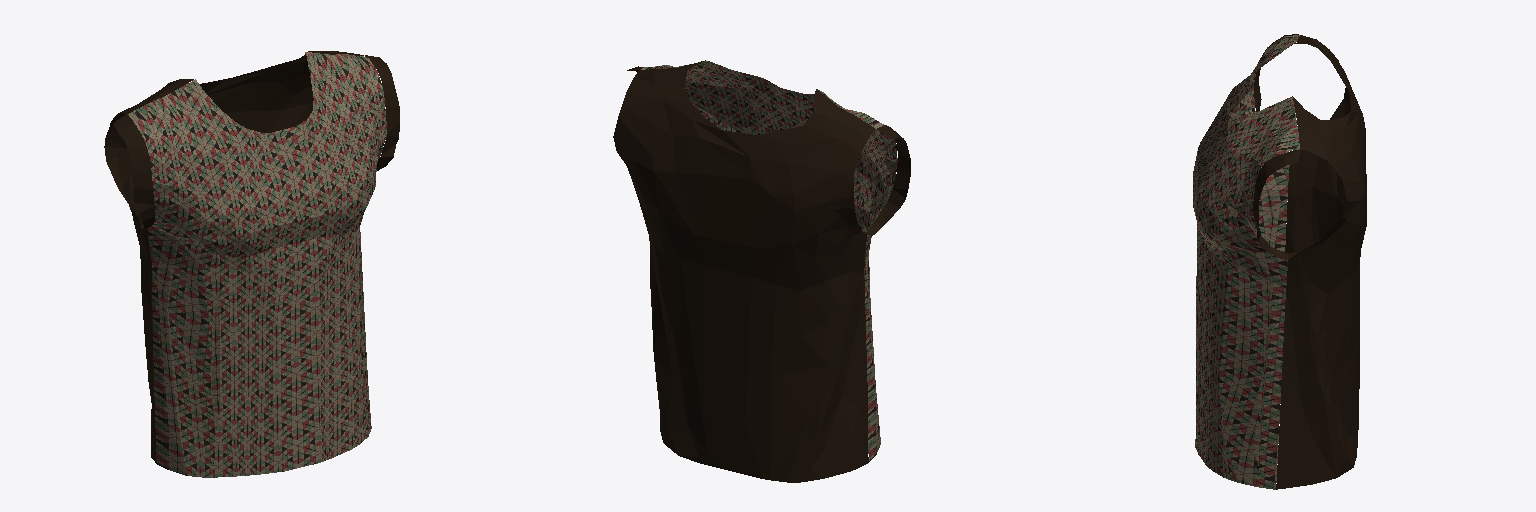
3 renders of one model, left to right at view 1: azimuth 30°, elevation 25°; view 2: azimuth 150°, elevation 25°; view 3: azimuth 270°, elevation 25°, orthographic.
Parts seen in each view (by area): view 1: T_shirt; view 2: T_shirt; view 3: T_shirt.
Part boxes in pixels (x1,y1,x2,y2): T_shirt: (104,51,399,477); T_shirt: (613,60,910,482); T_shirt: (1193,34,1366,489).
Size of the model in its own units: 0.2935 by 0.3892 by 0.1639.
Materials: 2 (1 with a texture image).